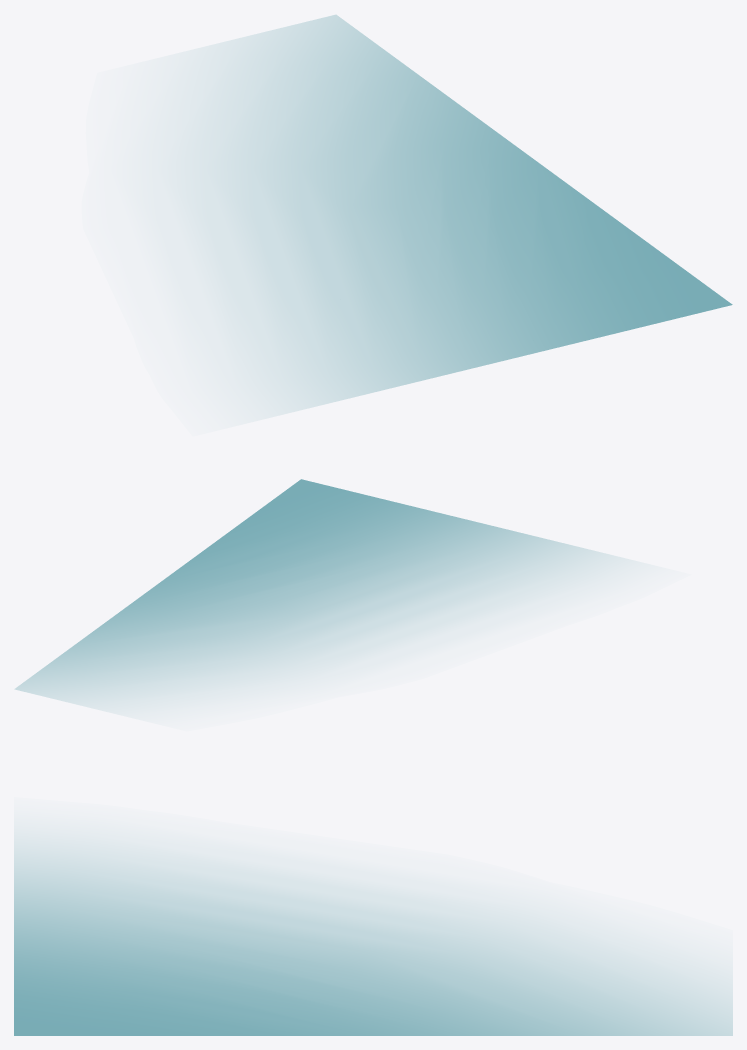
3 renders of one model, top to bottom at view 1: azimuth 30°, elevation 25°; view 2: azimuth 150°, elevation 25°; view 3: azimuth 270°, elevation 25°, orthographic. The views are drawn at different scales.
Parts seen in each view (by area): view 1: city; view 2: city; view 3: city.
Boxes of the visible parts, x1,y1,x2,y2 form: city: [172, 15, 732, 415]; city: [15, 479, 630, 711]; city: [14, 834, 732, 1035].
Bounding box in the file's own units: 434 × 0 × 500.
